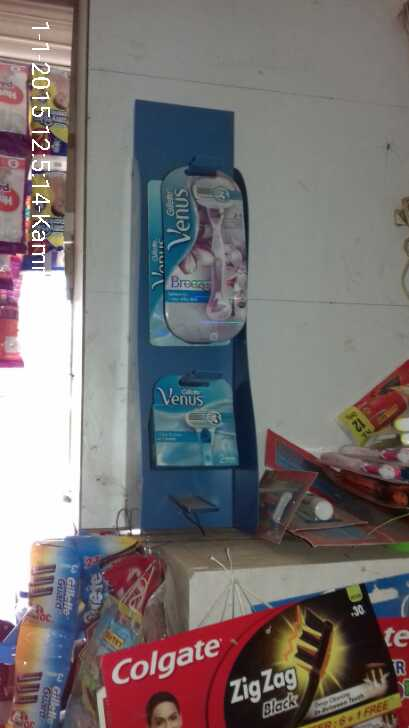venus: (162, 156, 253, 338), (146, 375, 248, 478)
